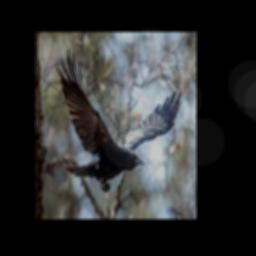Crow: (56, 48, 182, 192)
